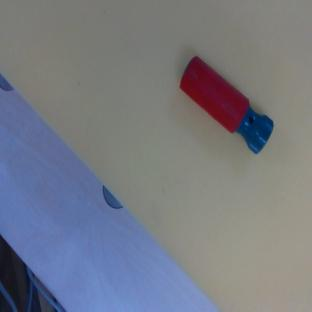part_2_good: (172, 55, 281, 156)
